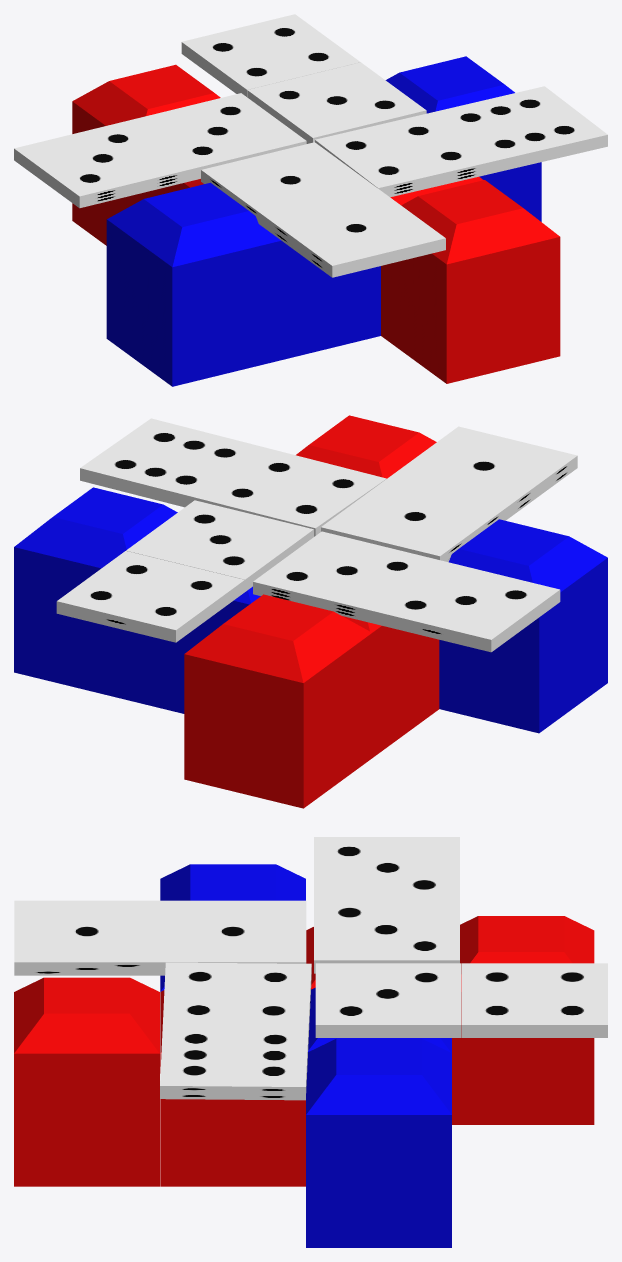
File: blocks_8.glb
The picture shows the model from 3 angles, top to bottom: view 1: azimuth 30°, elevation 25°; view 2: azimuth 150°, elevation 25°; view 3: azimuth 270°, elevation 25°; orthographic projection. The views are drawn at different scales.
Parts seen in each view (by area): view 1: Cube.011, Cube.008, Cube.019, Cube, Cube.004, Cube.002, Cube.001, Cube.006, Cube.007, Cube.005, Cube.003, Cube.010 (+2 smaller); view 2: Cube.010, Cube.011, Cube.009, Cube.004, Cube.007, Cube.001, Cube.003, Cube.005, Cube, Cube.006, Cube.002, Cube.012 (+2 smaller); view 3: Cube.008, Cube.009, Cube.010, Cube.013, Cube, Cube.001, Cube.006, Cube.007, Cube.003, Cube.005, Cube.002, Cube.004 (+2 smaller).
Part boxes in pixels (bbox=[...]): Cube.011: bbox=[106, 182, 285, 386]; Cube.008: bbox=[381, 180, 560, 383]; Cube.019: bbox=[267, 233, 380, 363]; Cube: bbox=[266, 190, 445, 277]; Cube.004: bbox=[14, 121, 193, 208]; Cube.002: bbox=[315, 113, 492, 197]; Cube.001: bbox=[430, 86, 607, 173]; Cube.006: bbox=[247, 62, 426, 143]; Cube.007: bbox=[181, 14, 360, 96]; Cube.005: bbox=[201, 142, 379, 229]; Cube.003: bbox=[128, 93, 306, 180]; Cube.010: bbox=[72, 64, 220, 245]; Cube.010: bbox=[184, 594, 372, 808]; Cube.011: bbox=[439, 519, 607, 733]; Cube.009: bbox=[14, 487, 177, 701]; Cube.004: bbox=[372, 560, 560, 652]; Cube.007: bbox=[56, 551, 244, 642]; Cube.001: bbox=[80, 418, 268, 507]; Cube.003: bbox=[253, 531, 440, 622]; Cube.005: bbox=[321, 477, 508, 562]; Cube: bbox=[390, 426, 577, 517]; Cube.006: bbox=[126, 500, 313, 591]; Cube.002: bbox=[197, 448, 386, 536]; Cube.012: bbox=[342, 616, 439, 757]; Cube.008: bbox=[14, 977, 159, 1186]; Cube.009: bbox=[306, 1038, 451, 1247]; Cube.010: bbox=[452, 916, 594, 1124]; Cube.013: bbox=[160, 990, 305, 1186]; Cube: bbox=[14, 900, 160, 975]; Cube.001: bbox=[160, 1024, 308, 1100]; Cube.006: bbox=[315, 963, 461, 1037]; Cube.007: bbox=[462, 963, 607, 1037]; Cube.003: bbox=[314, 898, 459, 973]; Cube.005: bbox=[160, 900, 306, 975]; Cube.002: bbox=[163, 962, 311, 1036]; Cube.004: bbox=[314, 837, 459, 898].
Size of the model in its own units: 8.12 by 2.46 by 8.14.
9 materials, 1 textured.
